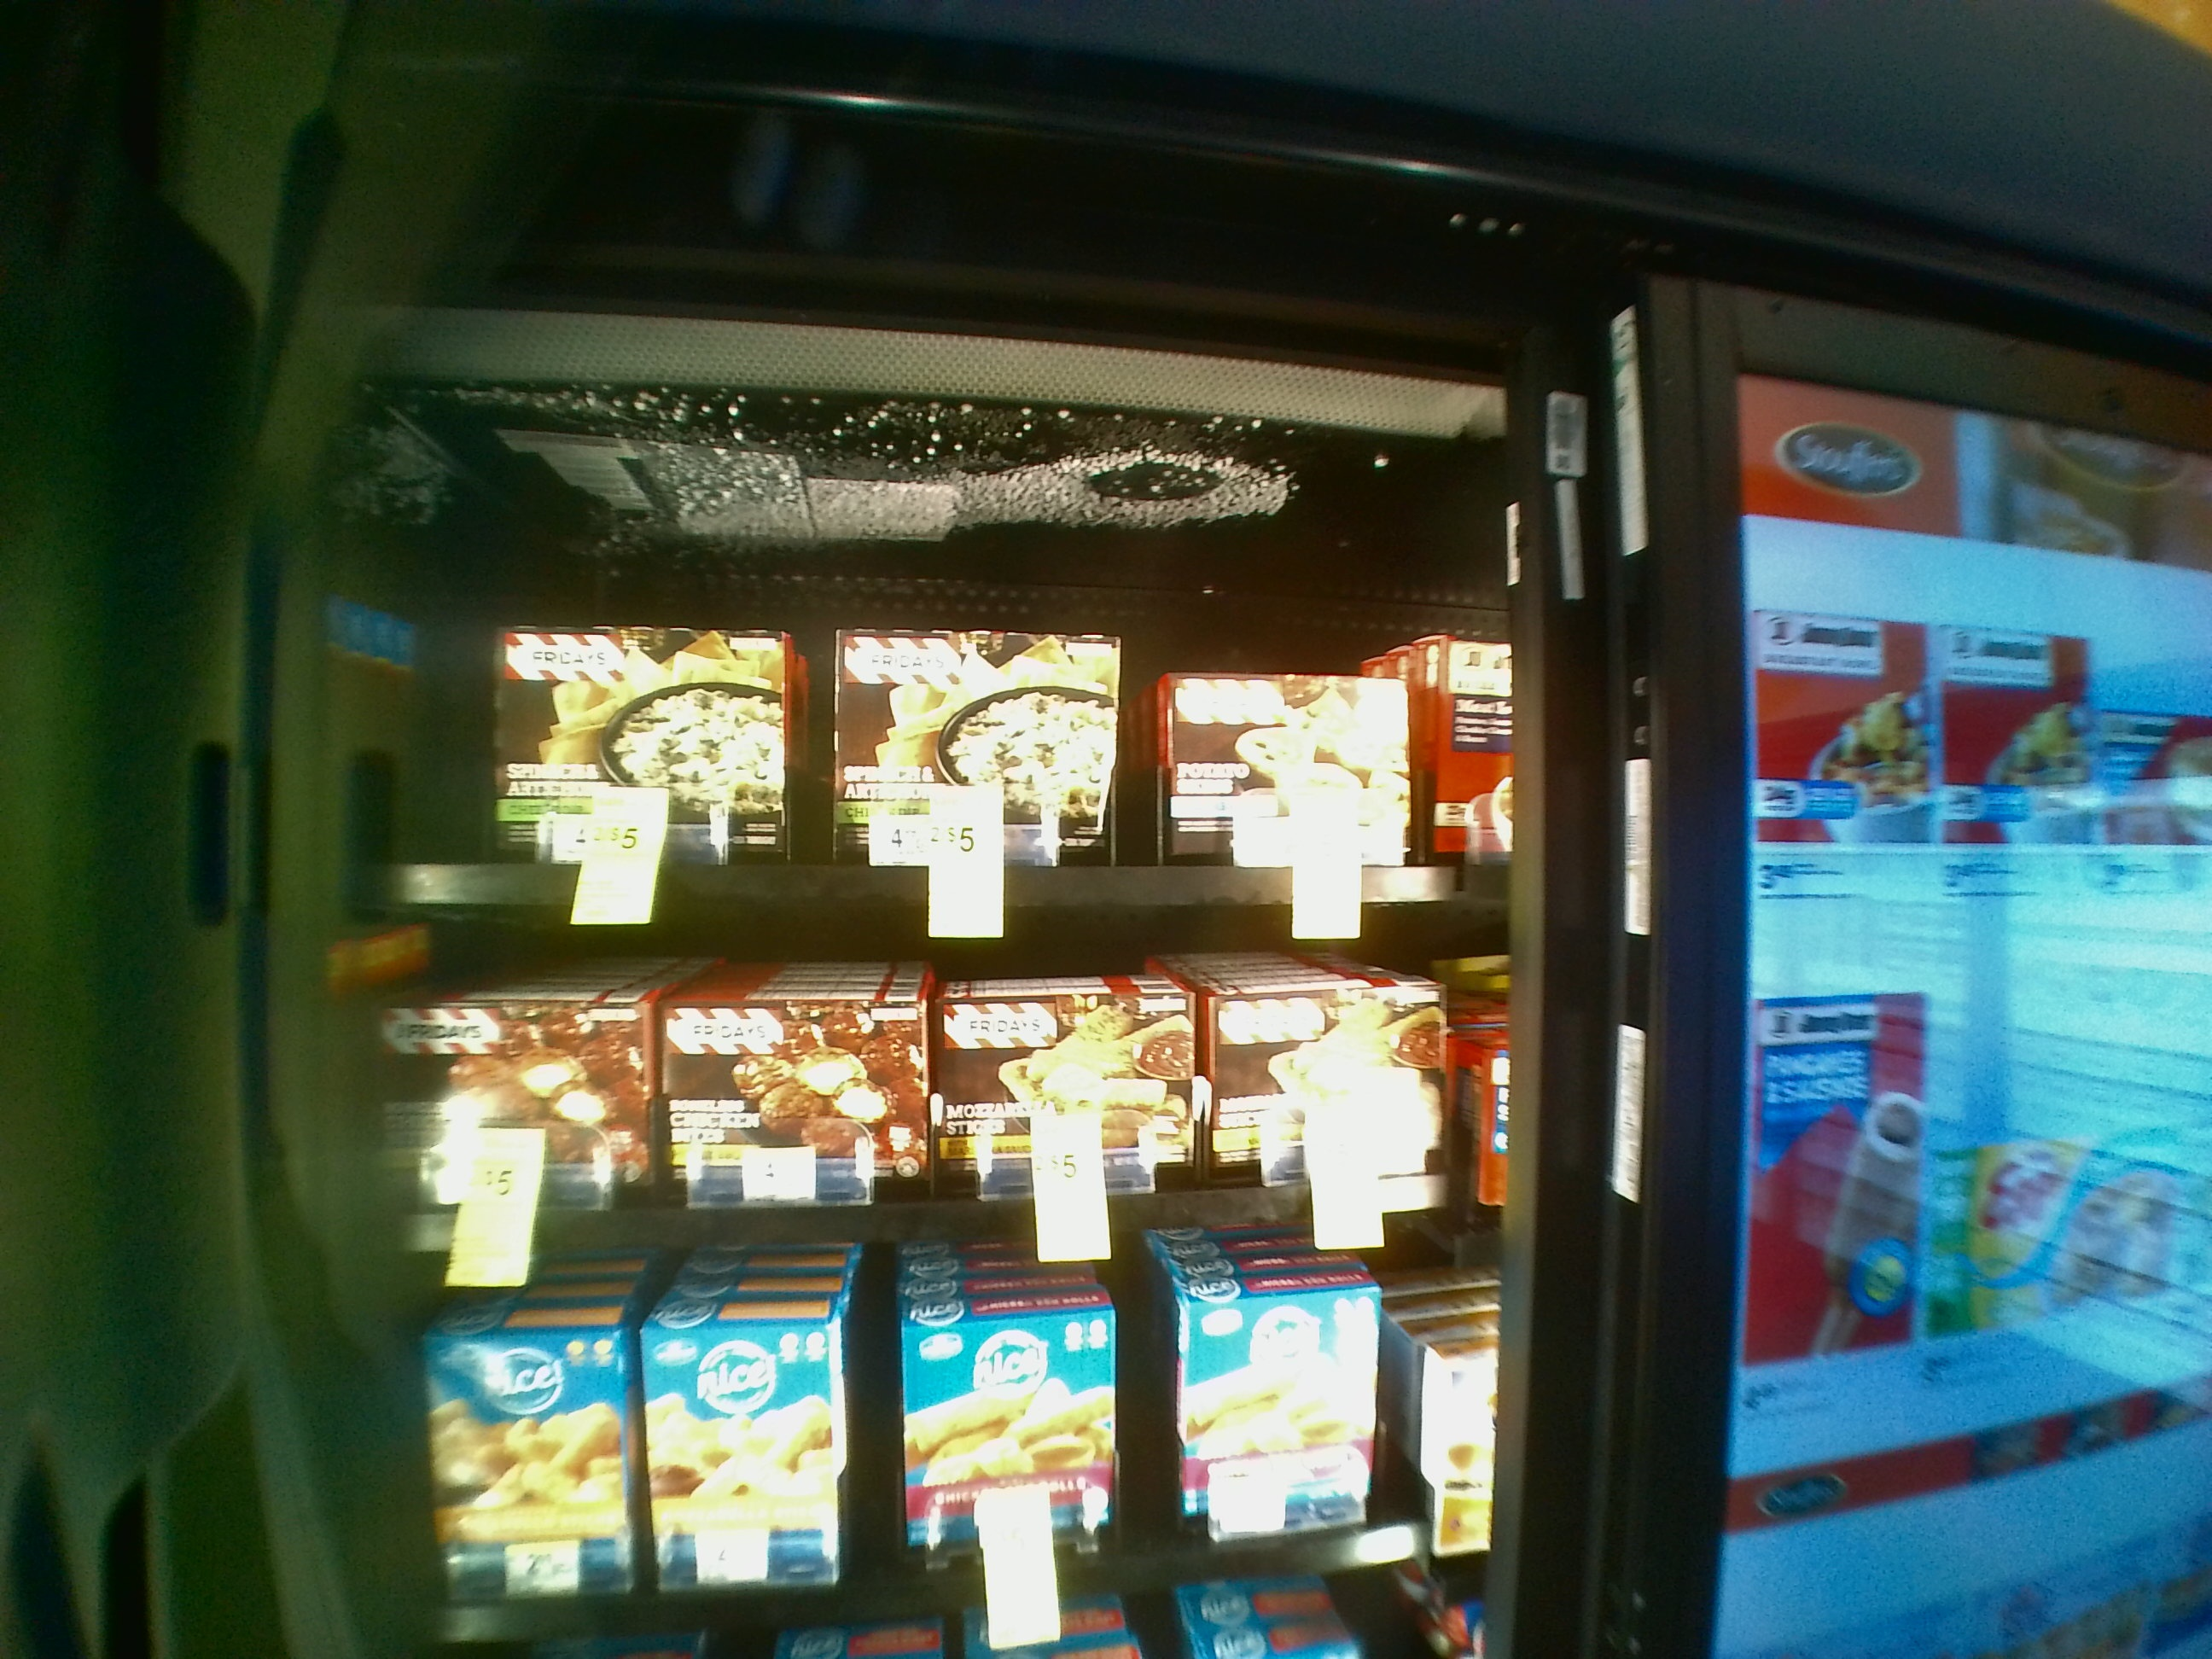shelf: (334, 436, 1496, 917), (343, 932, 1498, 1276)
